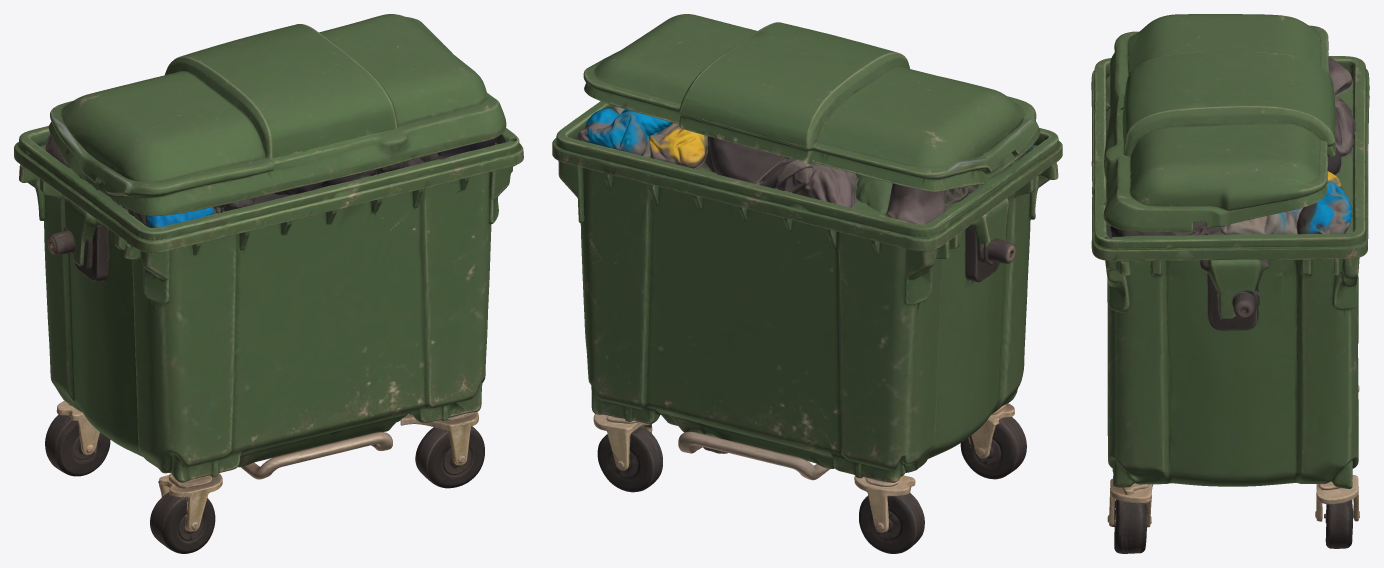
The model's file is dumpster.glb.
3 views of the same model, side by side, from view 1: azimuth 30°, elevation 25°; view 2: azimuth 150°, elevation 25°; view 3: azimuth 270°, elevation 25° (orthographic).
Size of the model in its own units: 1.9 by 1.79 by 1.09.
Materials: 1 (1 with a texture image).
